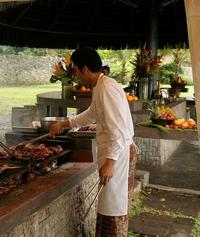person: (50, 46, 137, 235)
